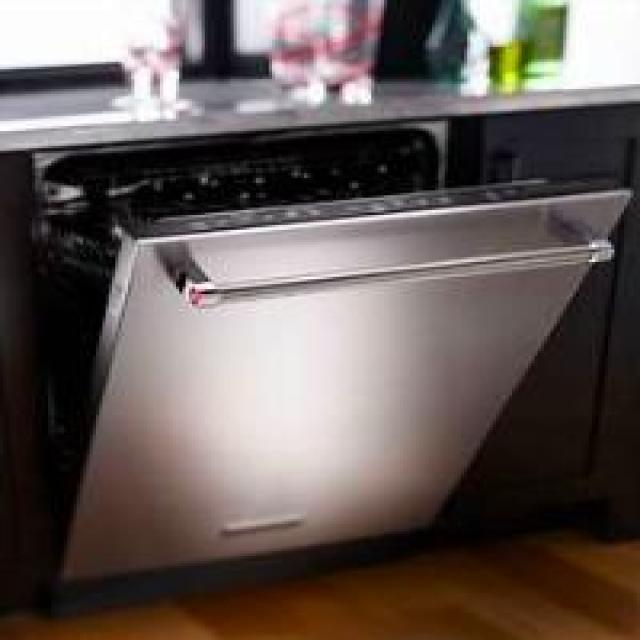dishwasher: (29, 111, 627, 583)
